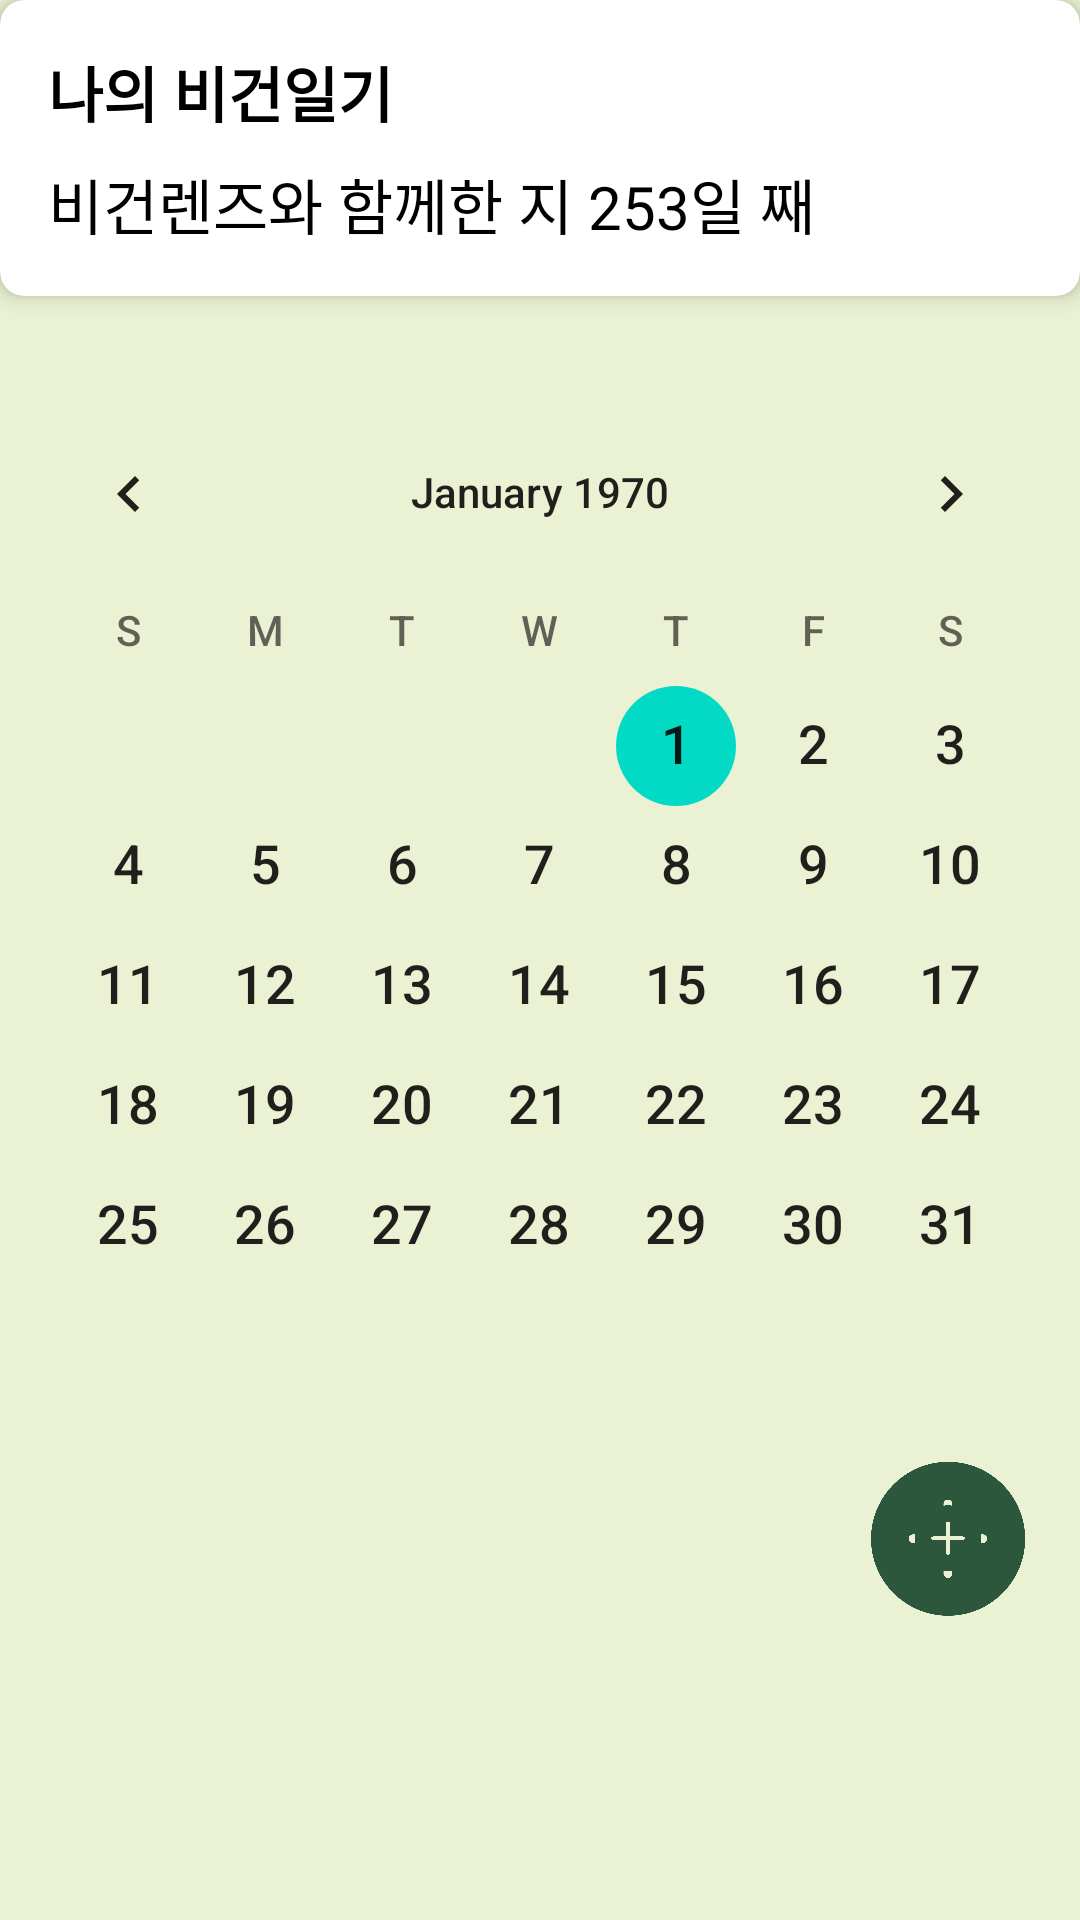

Point at icon controls on the screen. Image size 1080 x 1920, points as (x=x, y=y).
add: (x=948, y=1539)
